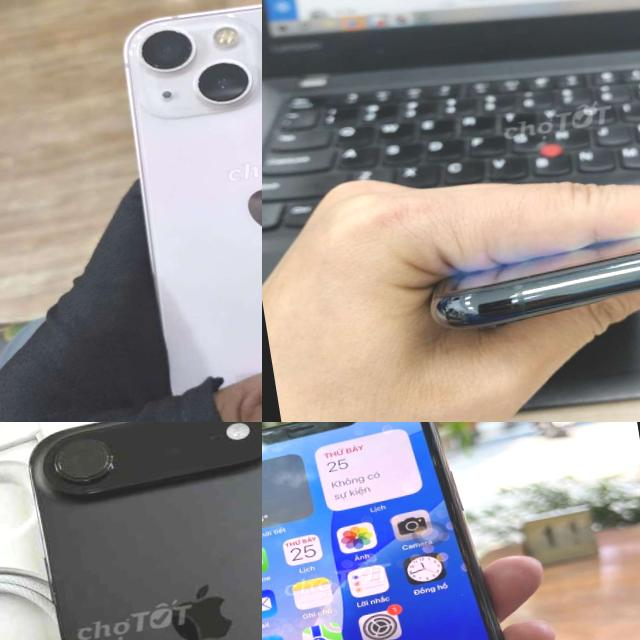gen_11: (262, 422, 557, 640), (418, 197, 640, 341)
gen_12_13: (107, 0, 262, 422)
gen_17: (0, 422, 262, 640)
